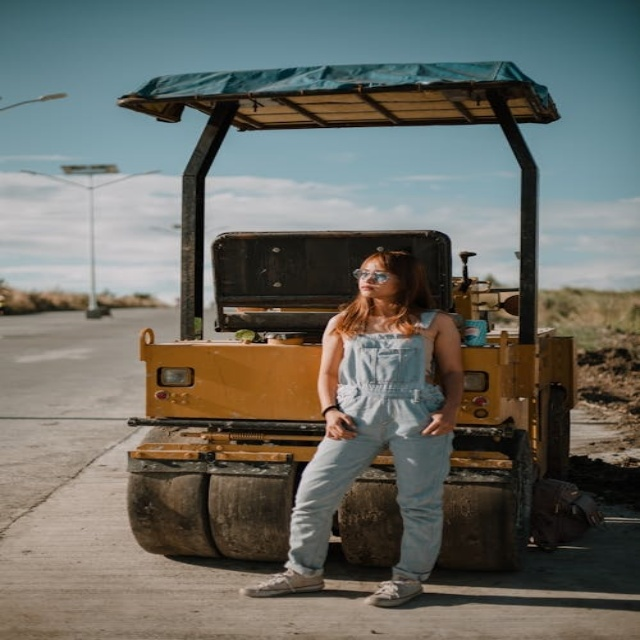Gafas: (352, 270, 396, 284)
Sin_guantes: (315, 405, 364, 441), (421, 409, 458, 439)
Sin_mascara: (353, 283, 378, 294)
